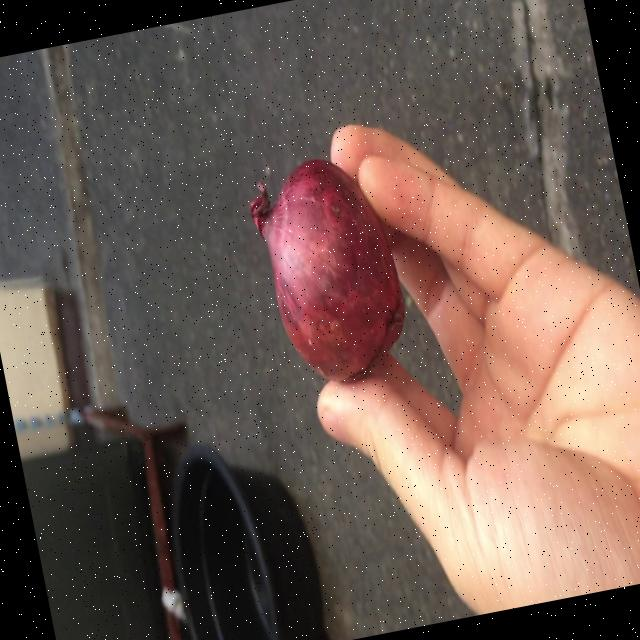Onion: (250, 159, 405, 380)
